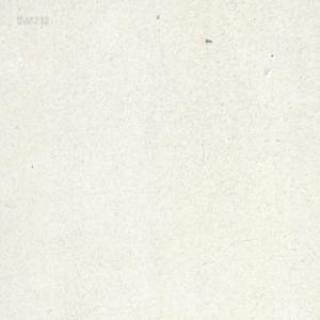Nailtrack_idkeyframe: (204, 36, 212, 42)
